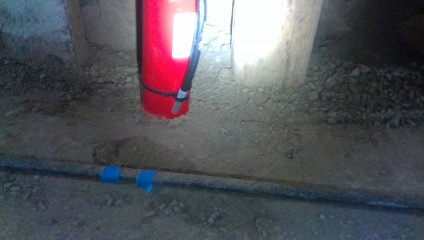fire_extinguisher: (137, 1, 207, 121)
